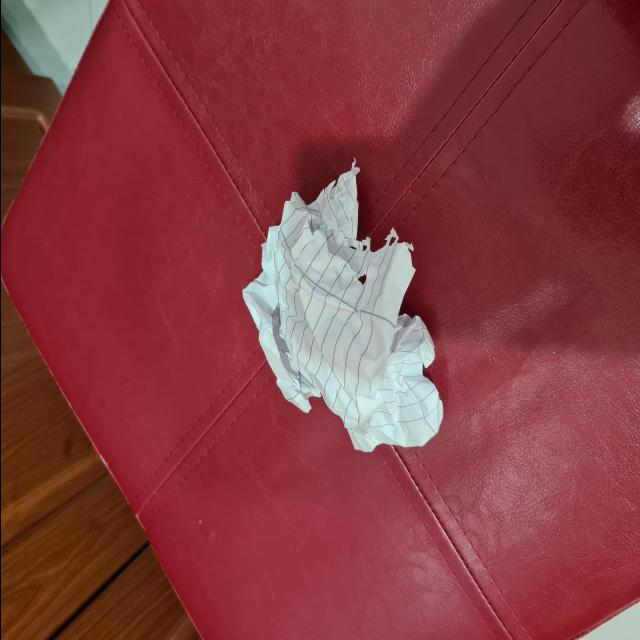kertas: (234, 168, 445, 458)
